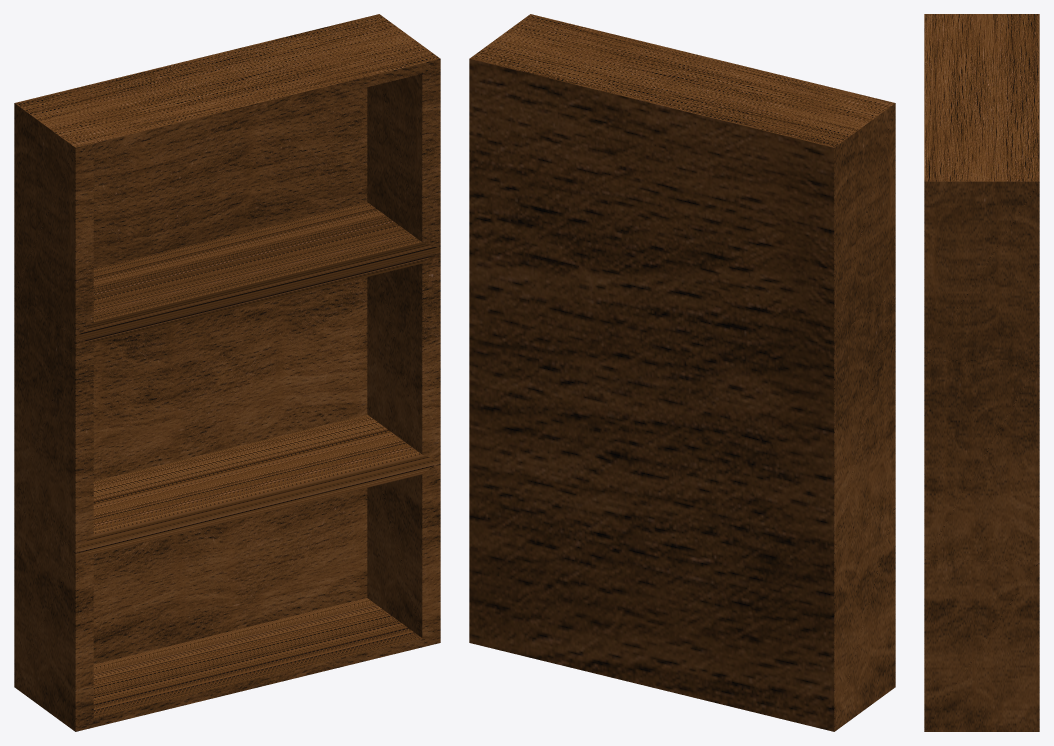
The model's file is Bookshelf.fbx.
The picture shows the model from 3 angles, left to right: view 1: azimuth 30°, elevation 25°; view 2: azimuth 150°, elevation 25°; view 3: azimuth 270°, elevation 25°; orthographic projection. The views are drawn at different scales.
Parts seen in each view (by area): view 1: Bookshelf; view 2: Bookshelf; view 3: Bookshelf.
Boxes of the visible parts, bbox=[...] form: Bookshelf: bbox=[14, 14, 440, 731]; Bookshelf: bbox=[469, 14, 895, 731]; Bookshelf: bbox=[924, 14, 1039, 731].
Size of the model in its own units: 2.59 by 3.95 by 0.7504.
